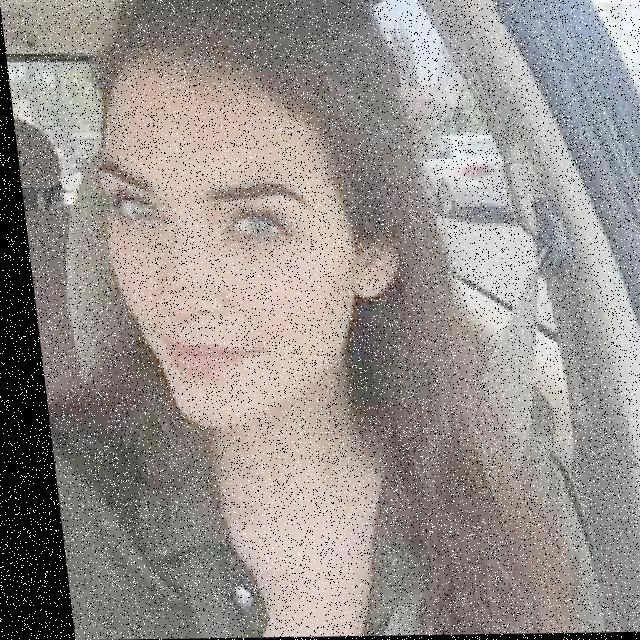seatbelt: (266, 240, 597, 637)
